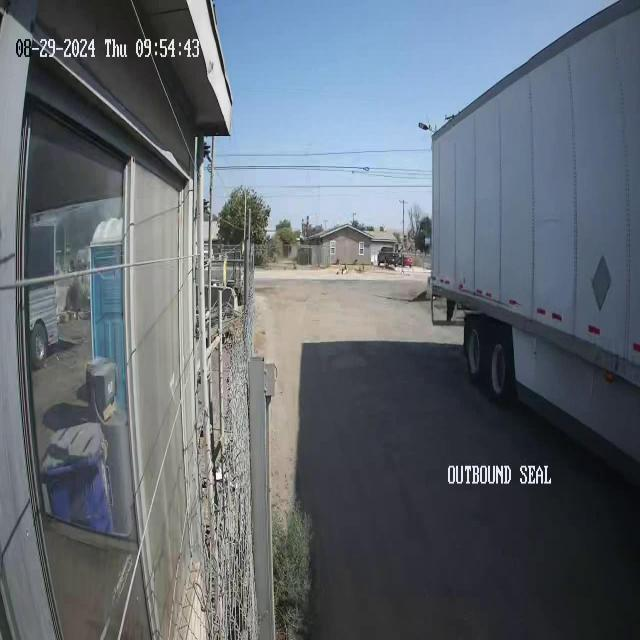TRUCK_CONTAINER: (430, 0, 640, 431)
